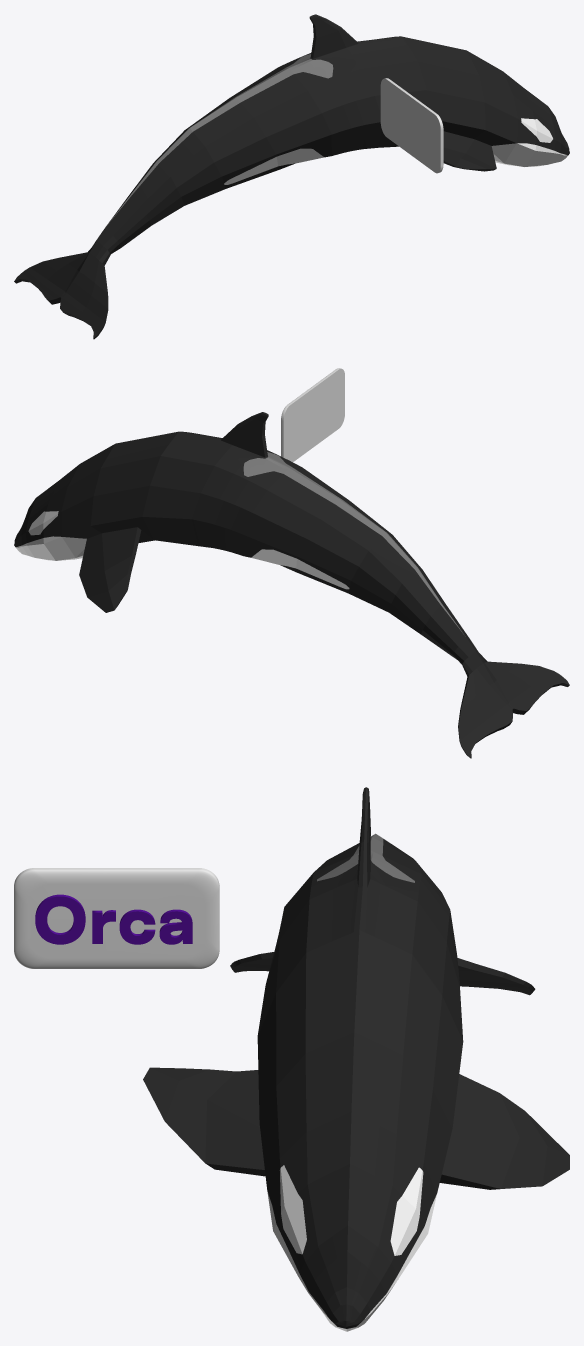
Rendered from Orca scaled.fbx.
3 views of the same model, one above another, from view 1: azimuth 30°, elevation 25°; view 2: azimuth 150°, elevation 25°; view 3: azimuth 270°, elevation 25° (orthographic). The views are drawn at different scales.
Visible parts, largest first — view 1: Cube.016, Cube.011; view 2: Cube.016, Cube.011; view 3: Cube.016, Cube.011, Text.011.
Boxes of the visible parts, box(x1,y1,x2,y2) form: Cube.016: box(14, 14, 569, 339); Cube.011: box(380, 78, 443, 173); Cube.016: box(14, 412, 569, 758); Cube.011: box(281, 368, 344, 462); Cube.016: box(143, 787, 569, 1331); Cube.011: box(14, 868, 219, 968); Text.011: box(35, 894, 192, 944).
Bounding box in the file's own units: 0.3174 × 0.1448 × 0.1754.
